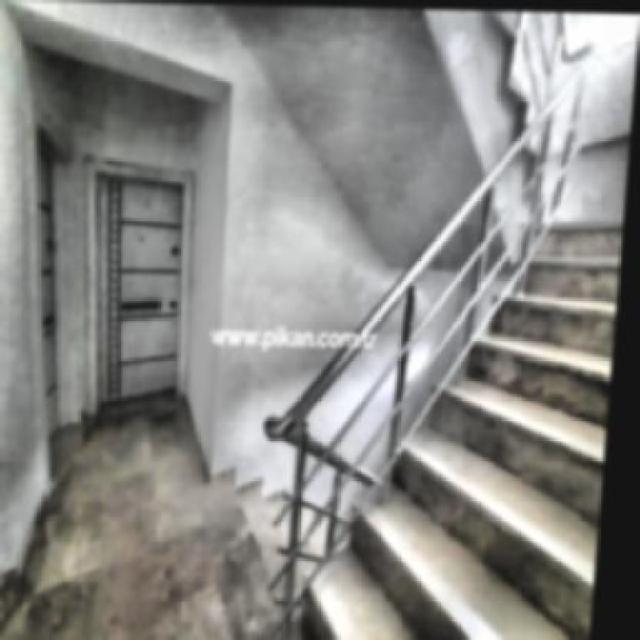stair: (289, 180, 629, 638)
